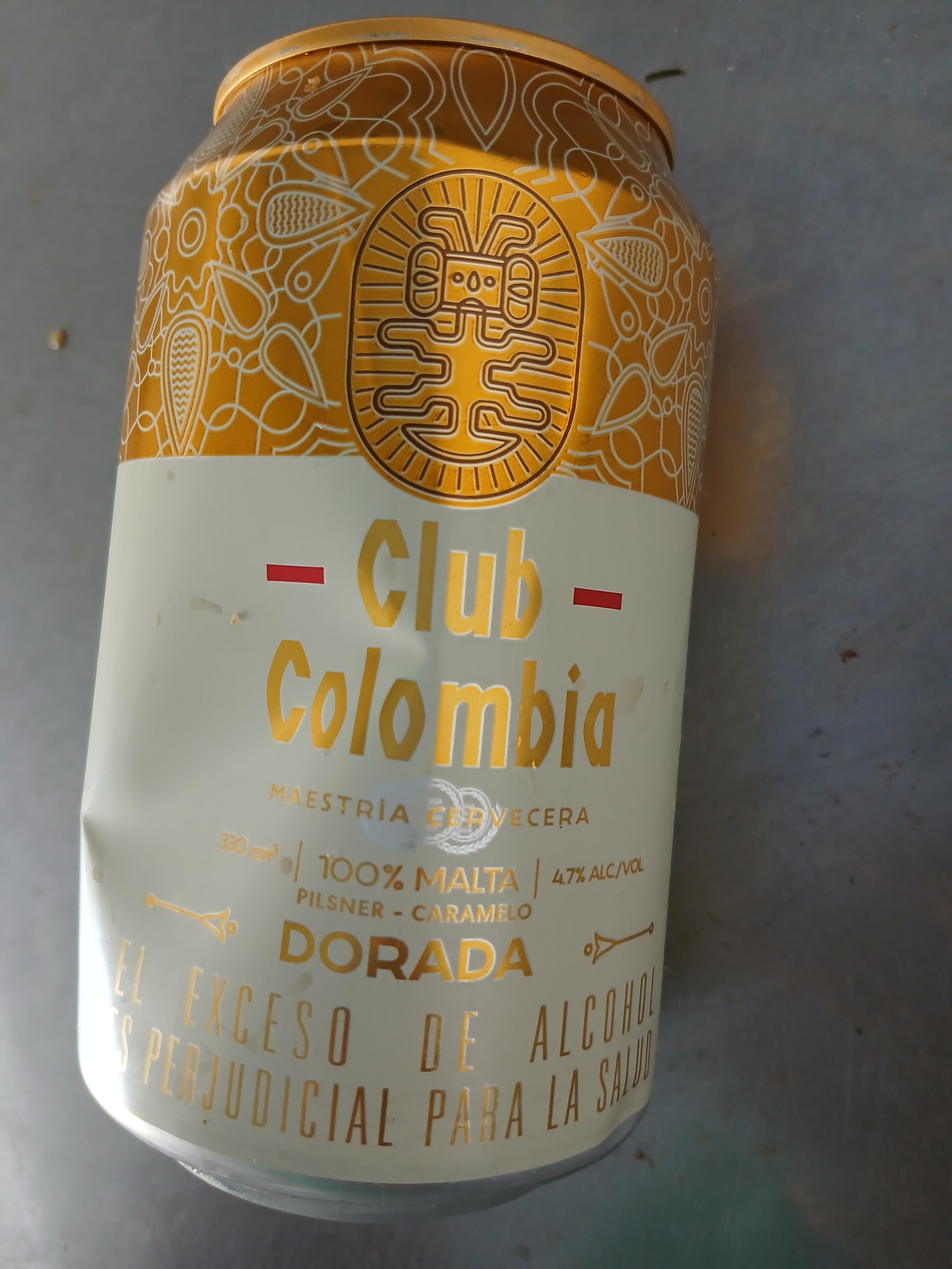Metal: (78, 25, 722, 1223)
